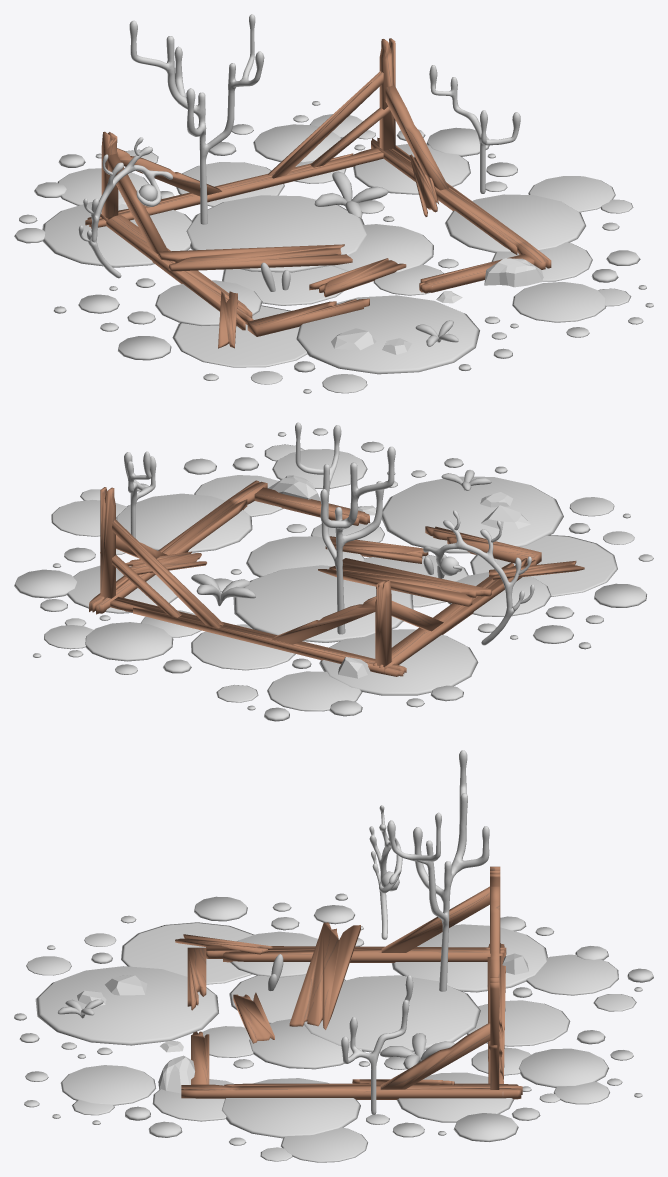
Rendered from CorruptionSet_6.fbx.
3 views of the same model, one above another, from view 1: azimuth 30°, elevation 25°; view 2: azimuth 150°, elevation 25°; view 3: azimuth 270°, elevation 25° (orthographic).
Visible parts, largest first — view 1: Circles, WoodHouse, CorruptedTree2.002, rocks.022, SwirlyTree.001, Flowers, CorruptedTree3.001; view 2: Circles, WoodHouse, CorruptedTree2.002, rocks.022, SwirlyTree.001, Flowers, CorruptedTree3.001; view 3: Circles, WoodHouse, CorruptedTree2.002, rocks.022, CorruptedTree3.001, Flowers, SwirlyTree.001.
Part boxes in pixels (bbox=[...]): Circles: bbox=[14, 101, 653, 393]; WoodHouse: bbox=[85, 38, 551, 348]; CorruptedTree2.002: bbox=[129, 14, 264, 224]; rocks.022: bbox=[118, 192, 543, 354]; SwirlyTree.001: bbox=[78, 137, 172, 278]; Flowers: bbox=[314, 171, 458, 346]; CorruptedTree3.001: bbox=[429, 65, 520, 193]; Circles: bbox=[14, 428, 653, 721]; WoodHouse: bbox=[89, 480, 584, 676]; CorruptedTree2.002: bbox=[295, 422, 395, 634]; rocks.022: bbox=[268, 475, 530, 678]; SwirlyTree.001: bbox=[423, 510, 534, 645]; Flowers: bbox=[191, 470, 491, 606]; CorruptedTree3.001: bbox=[124, 451, 156, 538]; Circles: bbox=[14, 893, 653, 1162]; WoodHouse: bbox=[175, 866, 522, 1099]; CorruptedTree2.002: bbox=[387, 750, 489, 991]; rocks.022: bbox=[77, 953, 528, 1093]; CorruptedTree3.001: bbox=[341, 975, 413, 1114]; Flowers: bbox=[58, 999, 454, 1069]; SwirlyTree.001: bbox=[369, 805, 402, 939].
Size of the model in its own units: 941 by 367 by 952.
